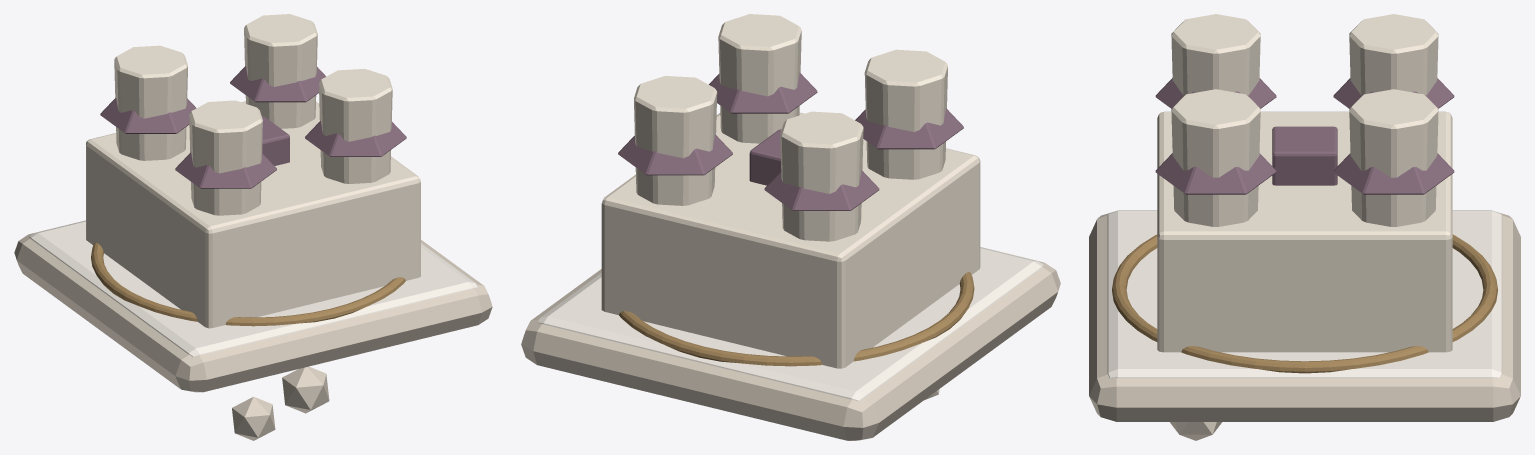
The model's file is island_agent.glb.
3 views of the same model, side by side, from view 1: azimuth 30°, elevation 25°; view 2: azimuth 150°, elevation 25°; view 3: azimuth 270°, elevation 25° (orthographic). The views are drawn at different scales.
Parts seen in each view (by area): view 1: island_agent; view 2: island_agent; view 3: island_agent.
Boxes of the visible parts, x1,y1,x2,y2 form: island_agent: (14, 14, 492, 440); island_agent: (521, 14, 1060, 440); island_agent: (1089, 14, 1520, 440).
Size of the model in its own units: 2.04 by 1.95 by 2.04.
